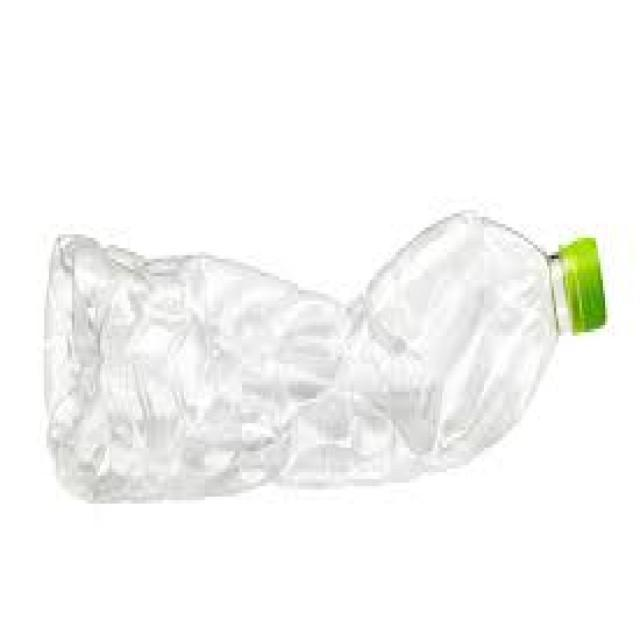bottle: (43, 198, 610, 516)
cap: (560, 230, 607, 340)
